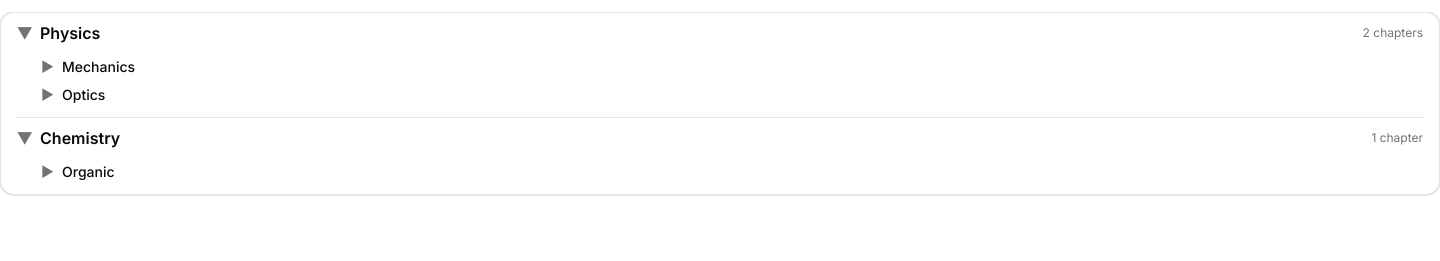
SyllabusTree › clicking a chapter reveals its topics
The image size is (1440, 261).
Check: the text "Newton's Laws" is not shown
Click the button "▶ Mechanics" at (88, 67), box left=41, top=53, right=135, bottom=81
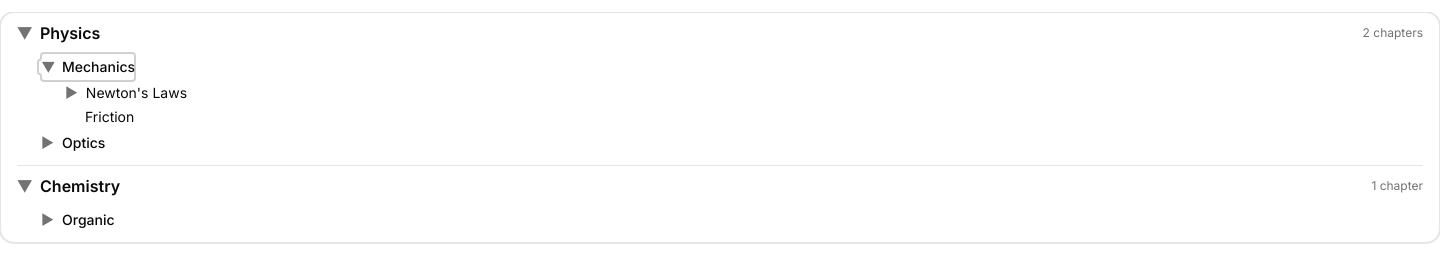
Check: the text "Newton's Laws" is shown, box left=86, top=83, right=187, bottom=103
Check: the text "Friction" is shown, box left=85, top=107, right=134, bottom=127
